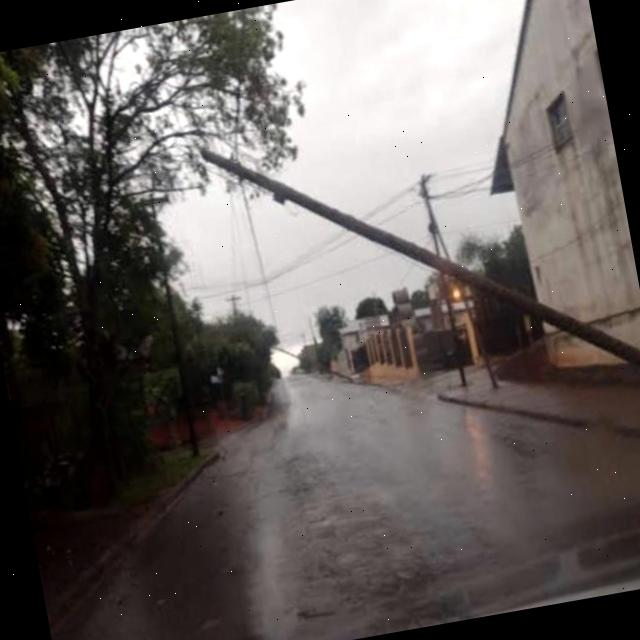Broken Pole: (202, 145, 640, 368)
